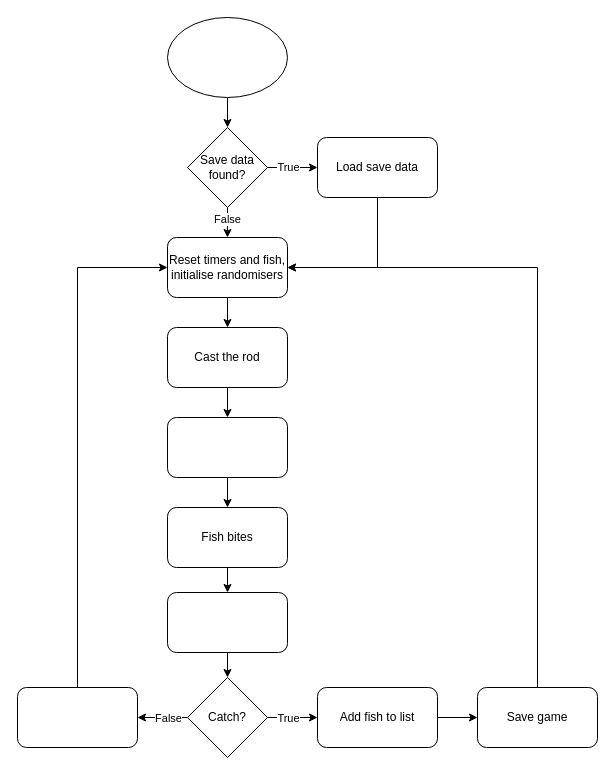
Image size: 615x775. Some labels were removed from this diagram. The shapes that lost their labels are listed below. From the top down, each one's box as (x1, y1, x2, y2) in pixels, then its label:
(166, 16, 288, 98): Start
(166, 416, 288, 478): Start bite timer
(166, 592, 288, 652): Start catch timer
(16, 686, 138, 748): Fish escapes
